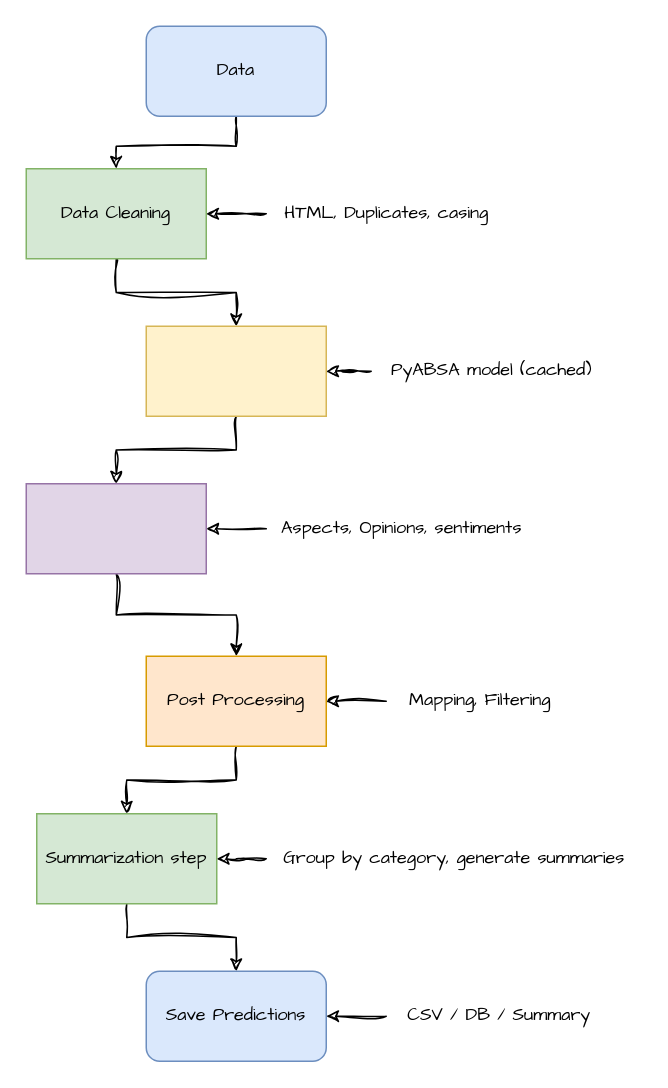
Image size: 668x1088. Some labels were removed from this diagram. Here are the shapes that lost their labels. From the top down, the centre of each, then its label:
the point at 235,370: Model Loading
the point at 115,528: Quad Extraction
